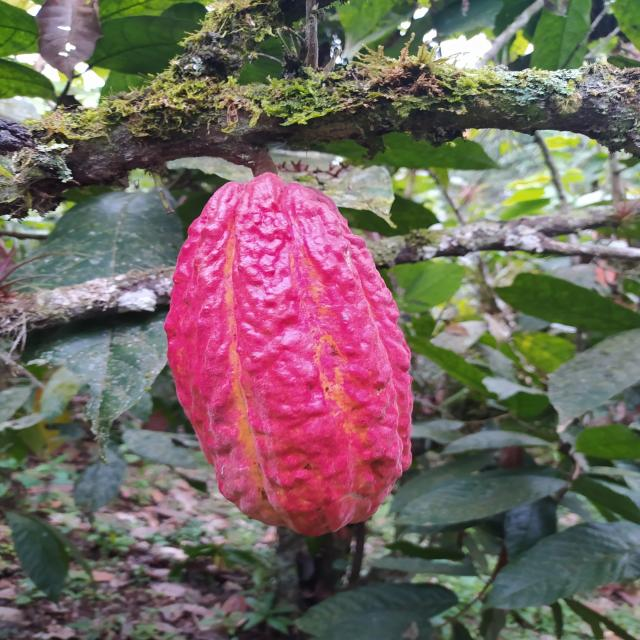Sana: (163, 171, 415, 535)
